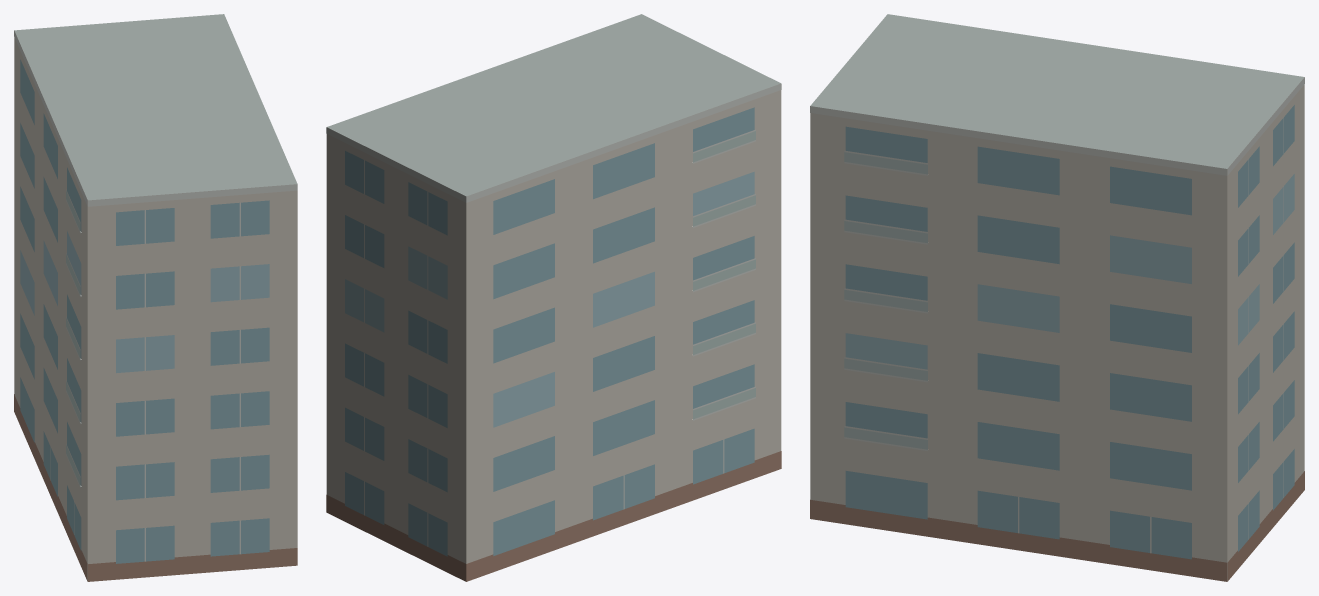
File: survey-upis-32931608.glb
3 views of the same model, side by side, from view 1: azimuth 30°, elevation 25°; view 2: azimuth 150°, elevation 25°; view 3: azimuth 270°, elevation 25° (orthographic). The views are drawn at different scales.
Visible parts, largest first — view 1: survey-upis-32931608.tmp; view 2: survey-upis-32931608.tmp; view 3: survey-upis-32931608.tmp.
Boxes of the visible parts, box(x1,y1,x2,y2) form: survey-upis-32931608.tmp: box(14, 14, 297, 581); survey-upis-32931608.tmp: box(326, 14, 781, 581); survey-upis-32931608.tmp: box(810, 14, 1304, 581).
Size of the model in its own units: 11.72 by 14.55 by 15.81.
